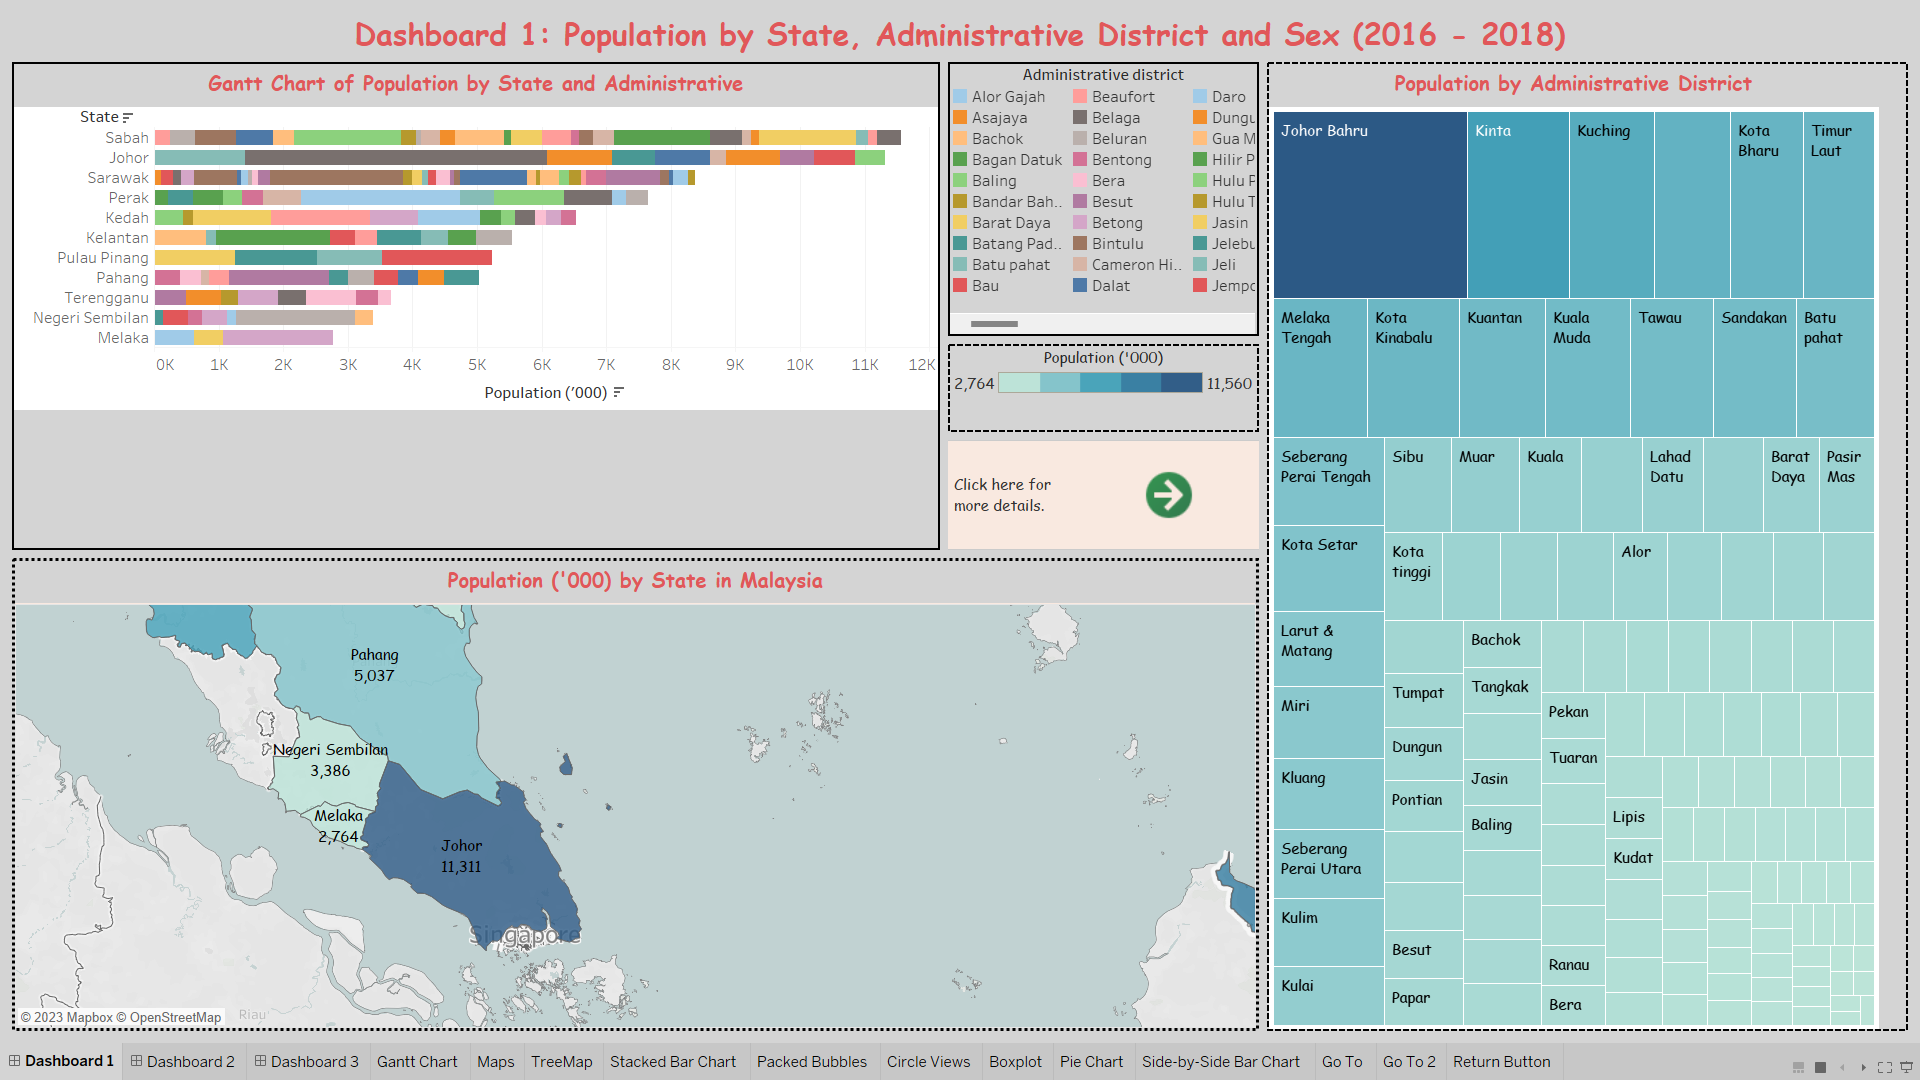

Layout of this report page (visuals, bound fields, positions):
{"tool":"tableau","page":{"name":"Dashboard 1","canvas":[1000,1000],"units":"permille","ordinal":0},"visuals":[{"type":"worksheet","box":[0,0,1000,1000]},{"type":"worksheet","param":"vert","box":[4.8,9.2,990.3,981.7]},{"type":"worksheet","box":[4.8,9.2,990.3,57.3]},{"type":"worksheet","param":"horz","box":[4.8,66.4,990.3,924.4]},{"type":"worksheet","box":[4.8,66.4,598.7,924.4]},{"type":"worksheet","title":"Gantt Chart","mark":"Automatic","rows":["State"],"cols":["Population ('000)"],"box":[4.8,66.4,446.5,469.5]},{"type":"worksheet","title":"Gantt Chart","mark":"Automatic","rows":["State"],"cols":["Population ('000)"],"param":"[federated.0jr2auv1nwskjz16j5b7o0mq9nzm].[none:Administrative district:nk]","box":[451.3,66.4,152.2,266.8]},{"type":"worksheet","title":"TreeMap","mark":"Automatic","box":[603.5,66.4,391.7,924.4]},{"type":"worksheet","title":"Maps","mark":"Automatic","param":"[federated.0jr2auv1nwskjz16j5b7o0mq9nzm].[sum:Population ('000):qk]","box":[451.3,333.2,152.2,90.5]},{"type":"worksheet","title":"Go To ","mark":"Shape","rows":["Calculation_1950058685096820736"],"box":[451.3,423.7,152.2,112.2]},{"type":"worksheet","title":"Maps","mark":"Automatic","box":[4.8,536,598.7,454.9]}]}

Visuals, with their boxes on the dashboard's canvas, which has no fixed pixel size, in thousandths of its width and height (x1, y1, x2, y2). These are canvas units, not pixel positions in the 1920x1080 screenshot, which may show the page scaled, cropped or inside an application window:
worksheet: crop(0, 0, 1000, 1000)
worksheet: crop(5, 9, 995, 991)
worksheet: crop(5, 9, 995, 66)
worksheet: crop(5, 66, 995, 991)
worksheet: crop(5, 66, 604, 991)
"Gantt Chart" worksheet: crop(5, 66, 451, 536)
"Gantt Chart" worksheet: crop(451, 66, 604, 333)
"TreeMap" worksheet: crop(604, 66, 995, 991)
"Maps" worksheet: crop(451, 333, 604, 424)
"Go To " worksheet (Shape marks): crop(451, 424, 604, 536)
"Maps" worksheet: crop(5, 536, 604, 991)
